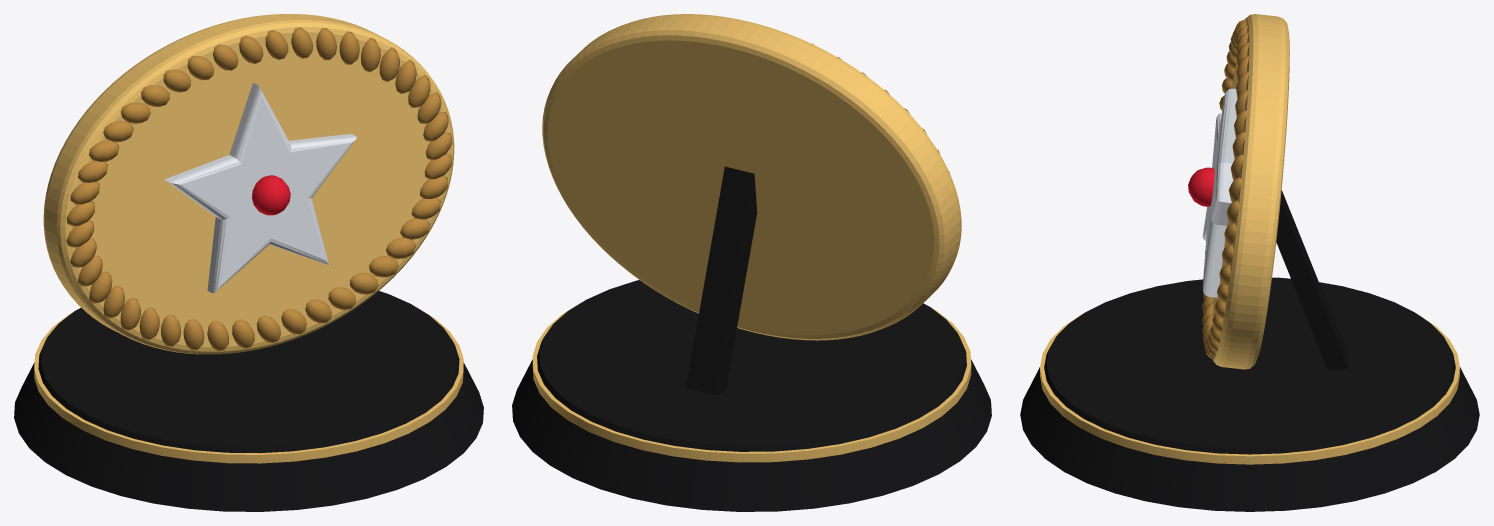
File: stunt-buckle.glb
3 views of the same model, side by side, from view 1: azimuth 30°, elevation 25°; view 2: azimuth 150°, elevation 25°; view 3: azimuth 270°, elevation 25° (orthographic). The views are drawn at different scales.
Visible parts, largest first — view 1: gold, black, gold-dark, silver, ruby; view 2: gold, black; view 3: black, gold, gold-dark, silver, ruby.
Part boxes in pixels (x1=…): gold: x1=34, y1=14, x2=463, y2=463; black: x1=14, y1=291, x2=483, y2=511; gold-dark: x1=66, y1=27, x2=452, y2=351; silver: x1=164, y1=82, x2=356, y2=293; ruby: x1=252, y1=175, x2=290, y2=215; gold: x1=532, y1=14, x2=971, y2=462; black: x1=512, y1=166, x2=991, y2=511; black: x1=1020, y1=190, x2=1479, y2=511; gold: x1=1040, y1=14, x2=1459, y2=464; gold-dark: x1=1202, y1=19, x2=1248, y2=359; silver: x1=1202, y1=88, x2=1237, y2=297; ruby: x1=1188, y1=167, x2=1214, y2=206.
Bounding box in the file's own units: 0.28 × 0.2511 × 0.28.
